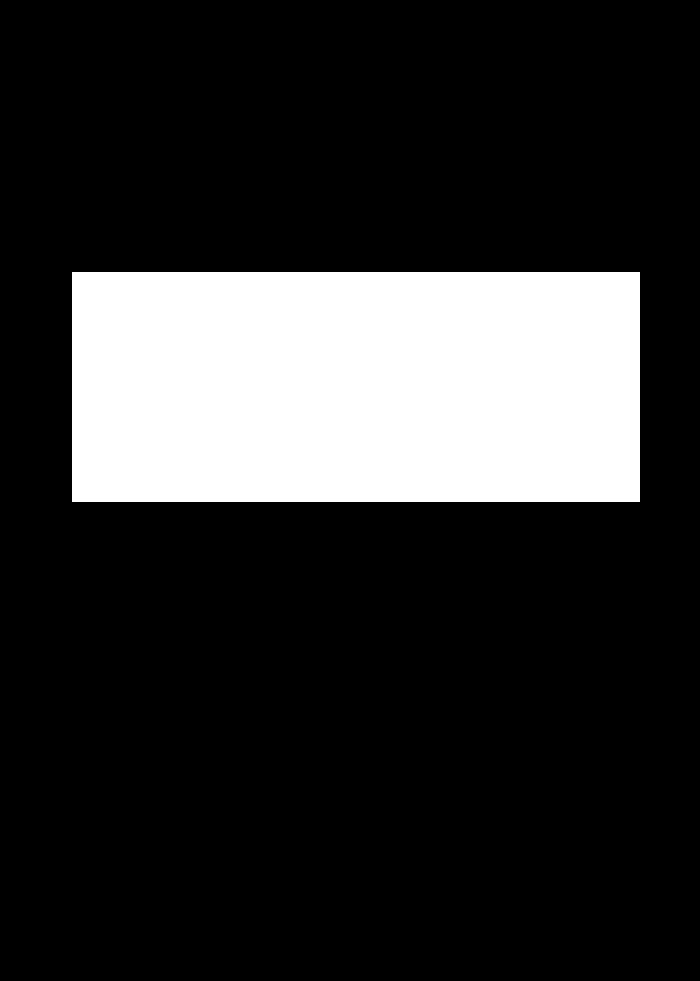table: (72, 272, 639, 501)
